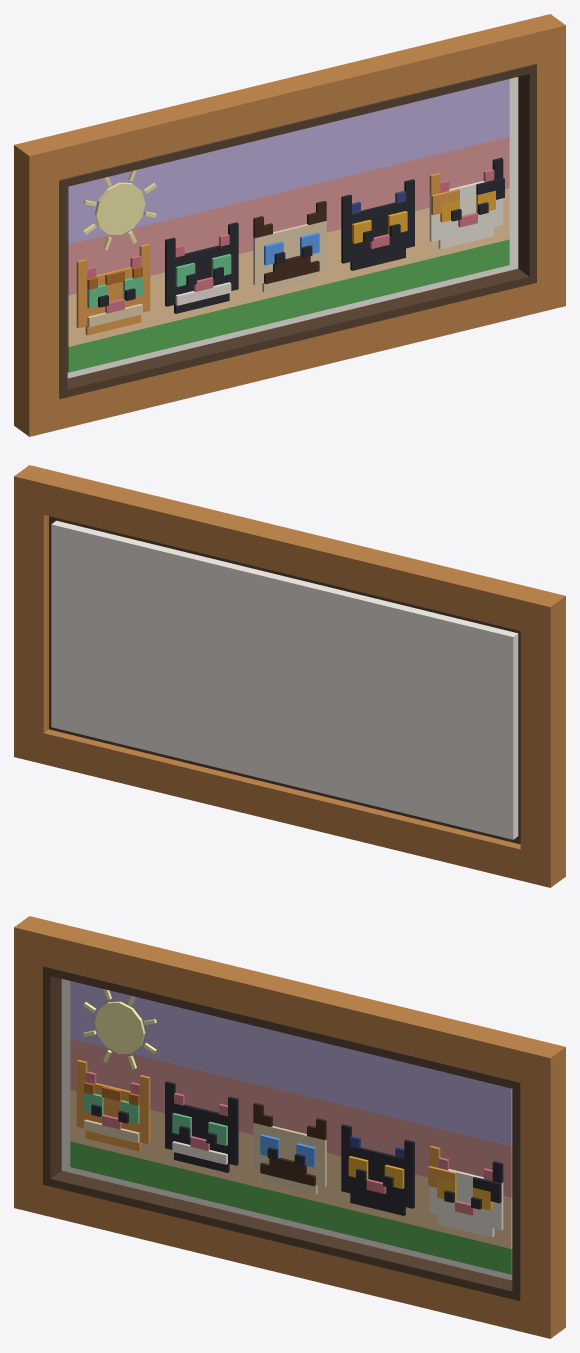
The model's file is CatCafe_Decor_MuralPrint.glb.
3 renders of one model, top to bottom at view 1: azimuth 30°, elevation 25°; view 2: azimuth 150°, elevation 25°; view 3: azimuth 330°, elevation 25°, orthographic.
Visible parts, largest first — view 1: CatCafe_Decor_MuralPrint; view 2: CatCafe_Decor_MuralPrint; view 3: CatCafe_Decor_MuralPrint.
Part boxes in pixels (x1,y1,x2,y2): CatCafe_Decor_MuralPrint: [14, 14, 565, 436]; CatCafe_Decor_MuralPrint: [14, 465, 565, 887]; CatCafe_Decor_MuralPrint: [14, 916, 565, 1338].
Size of the model in its own units: 3.6 by 1.8 by 0.19.
1 material, 1 textured.
